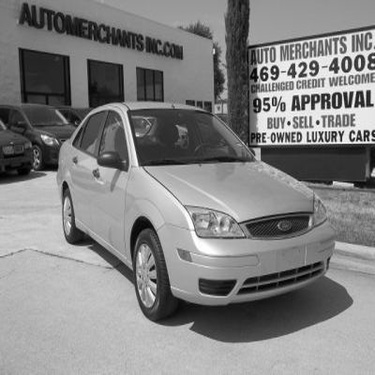car: (50, 94, 340, 326), (1, 106, 80, 173), (42, 101, 102, 140), (102, 110, 164, 147), (1, 125, 37, 179)
